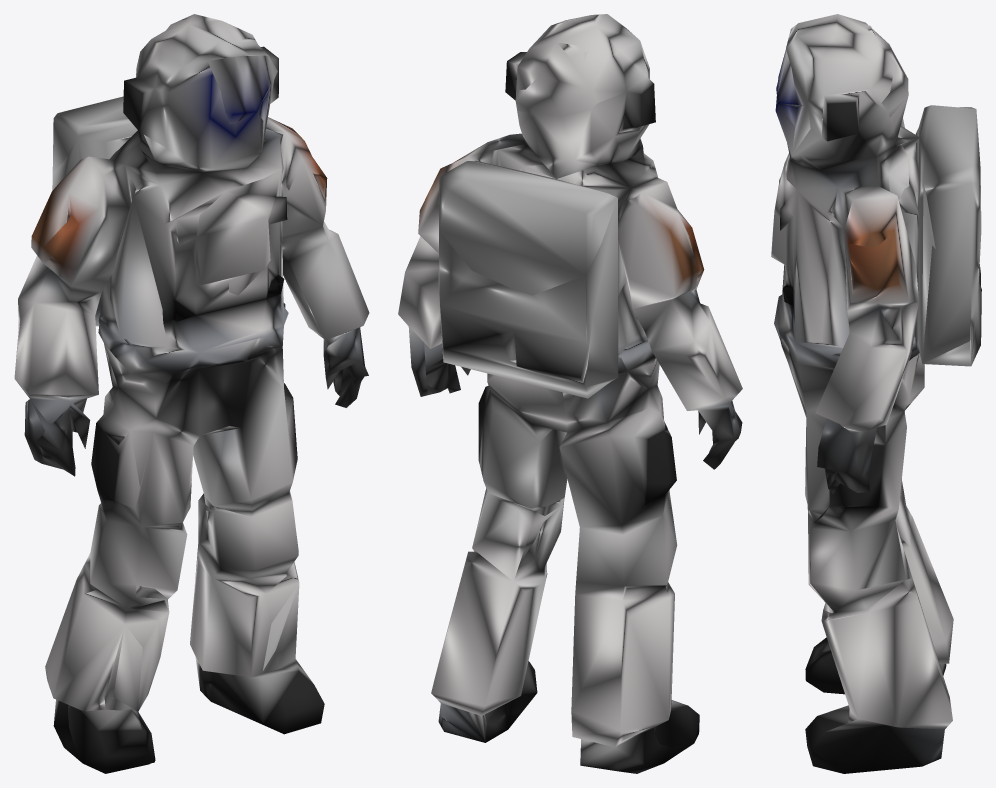
Rendered from gen3d-space-suit-lod1.glb.
3 views of the same model, side by side, from view 1: azimuth 30°, elevation 25°; view 2: azimuth 150°, elevation 25°; view 3: azimuth 270°, elevation 25° (orthographic). The views are drawn at different scales.
Visible parts, largest first — view 1: part_0; view 2: part_0; view 3: part_0.
Part boxes in pixels (x1=…): part_0: x1=14, y1=14, x2=369, y2=773; part_0: x1=398, y1=14, x2=742, y2=773; part_0: x1=771, y1=14, x2=981, y2=773.
Bounding box in the file's own units: 0.4917 × 0.9979 × 0.2729.
